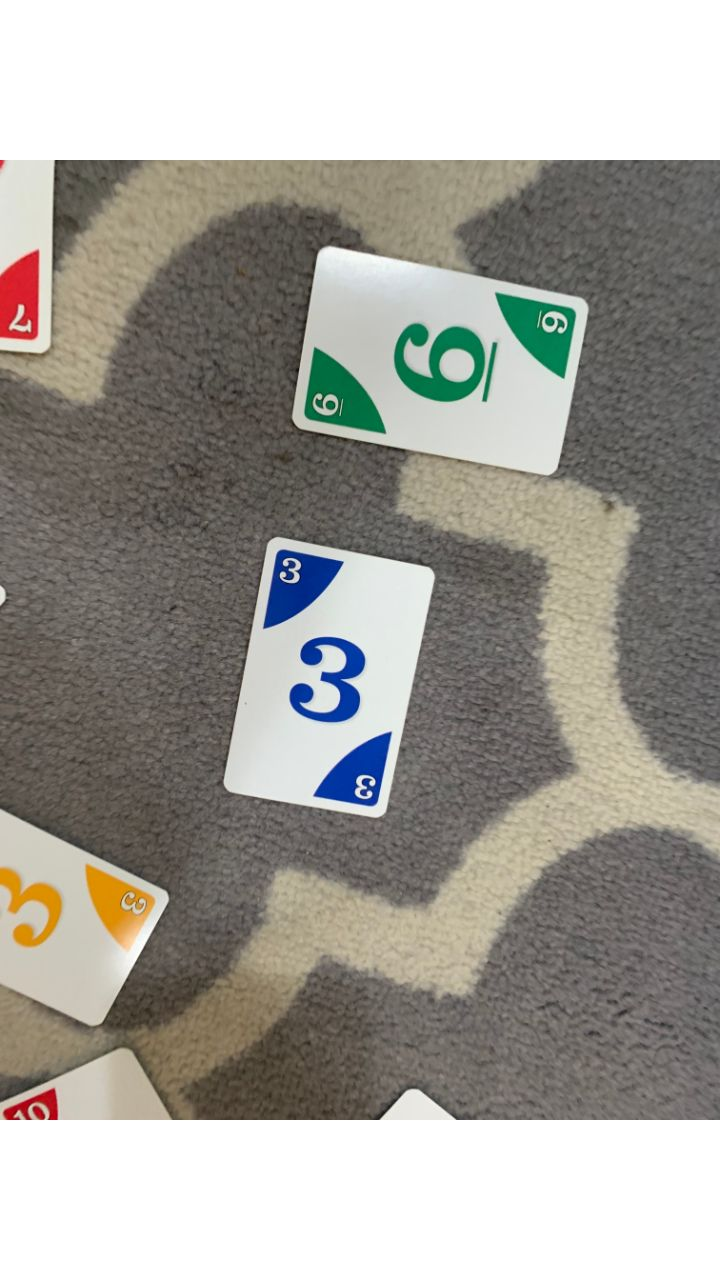three: (226, 539, 435, 820)
